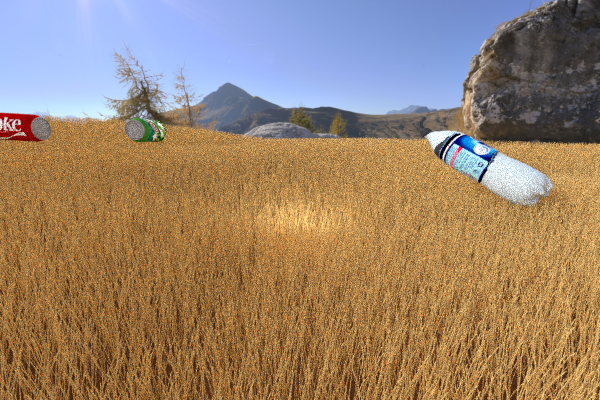bottle: (420, 127, 553, 207)
can: (0, 111, 51, 141), (124, 118, 166, 142)
